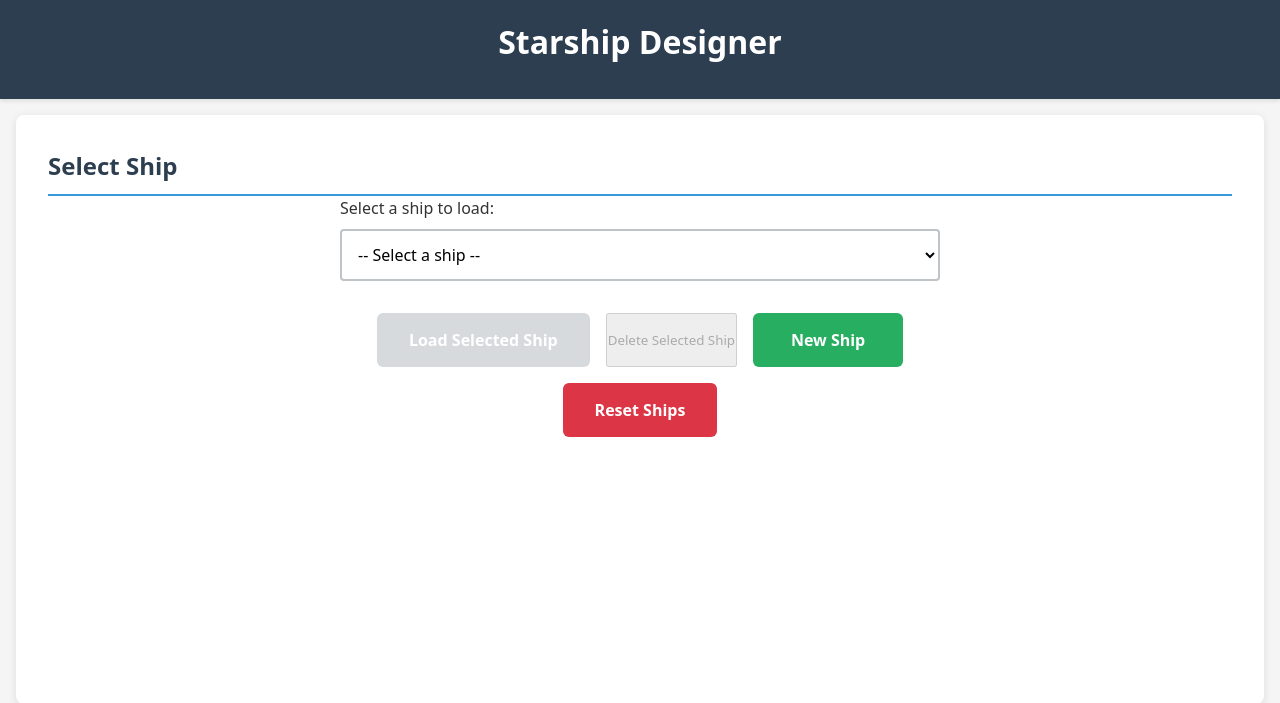
it: App › Next button becomes enabled after entering a ship name
Click the button "New Ship". click: (828, 340)
box: [753, 313, 903, 367]
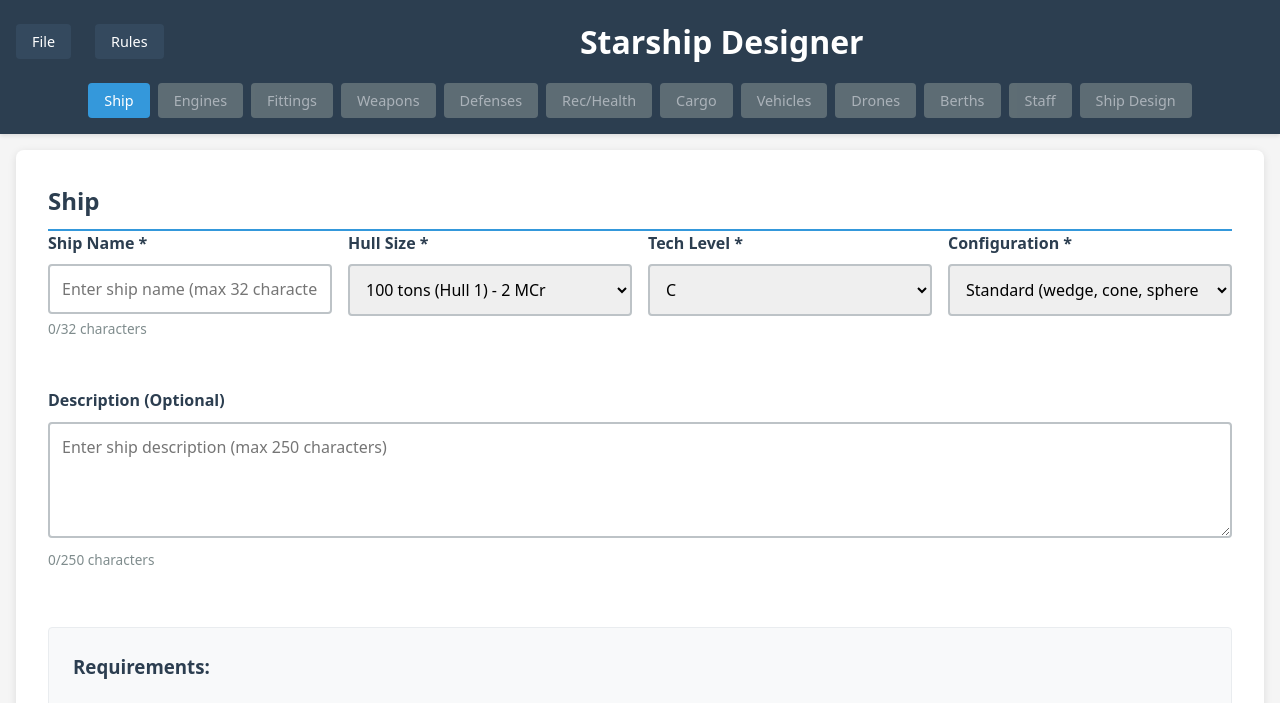
Type "Falcon" into the field labelled "Ship Name *". click: (190, 289)
box: [48, 264, 332, 314]
(page scrolled)
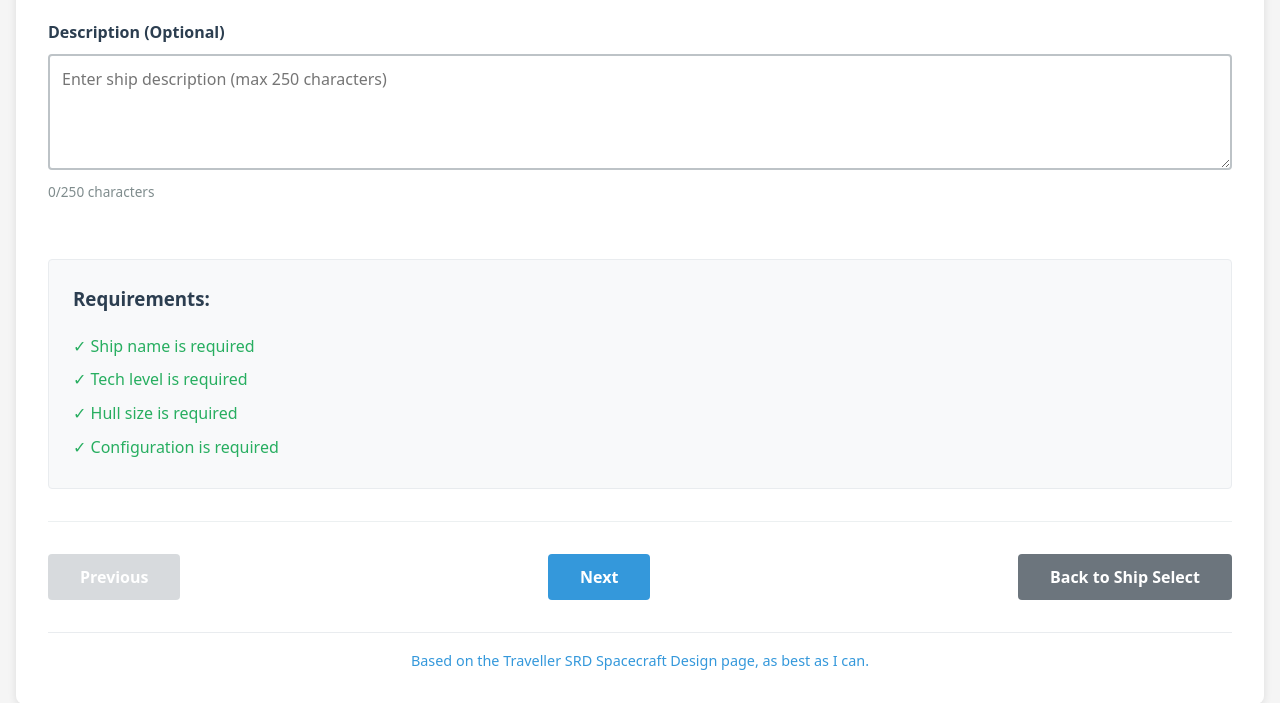
Expected: the button "Next" is enabled, [548, 554, 650, 600]
